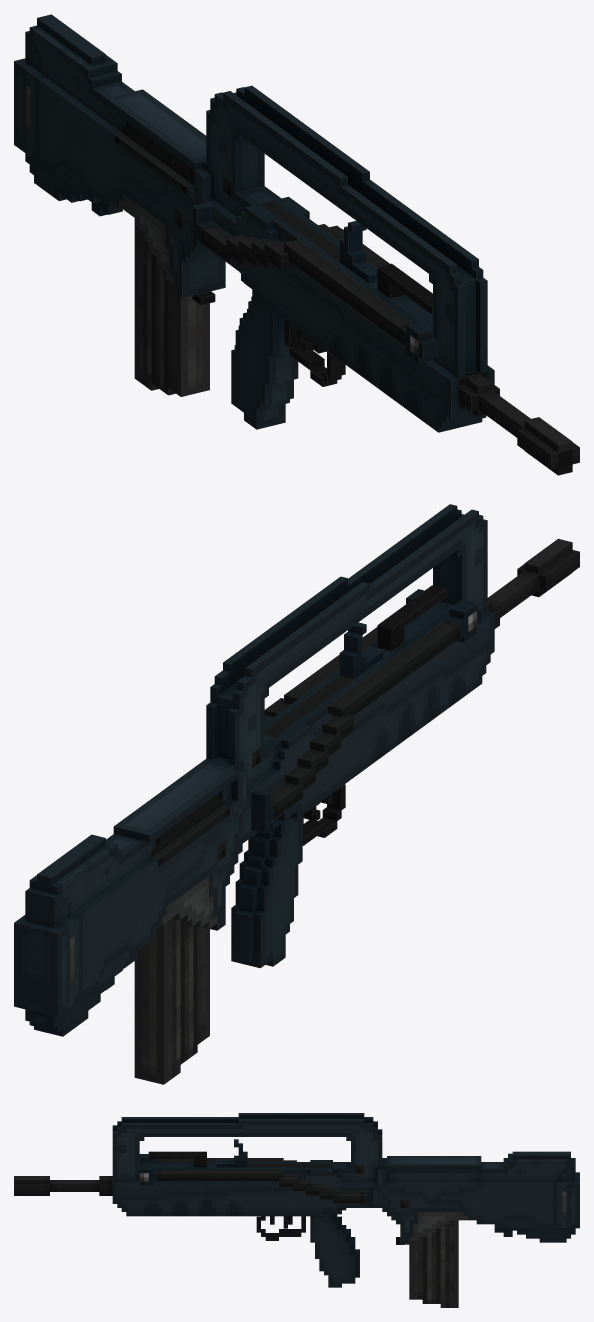
The model's file is FAMAS.glb.
3 views of the same model, one above another, from view 1: azimuth 30°, elevation 25°; view 2: azimuth 150°, elevation 25°; view 3: azimuth 270°, elevation 25° (orthographic). The views are drawn at different scales.
Visible parts, largest first — view 1: FAMAS_F1_BODY, FAMS_F1_CLIP, FAMAS_F1_DIPOD_P1, FAMAS_F1_BOLT; view 2: FAMAS_F1_BODY, FAMS_F1_CLIP, FAMAS_F1_DIPOD_P1, FAMAS_F1_BOLT, FAMAS_F1_DIPOD_P2; view 3: FAMAS_F1_BODY, FAMS_F1_CLIP, FAMAS_F1_DIPOD_P2, FAMAS_F1_BOLT, FAMAS_F1_DIPOD_P1.
Part boxes in pixels (left/top/right/bottom): FAMAS_F1_BODY: left=14, top=14, right=579, bottom=475; FAMS_F1_CLIP: left=134, top=218, right=209, bottom=396; FAMAS_F1_DIPOD_P1: left=192, top=202, right=437, bottom=364; FAMAS_F1_BOLT: left=339, top=221, right=377, bottom=283; FAMAS_F1_BODY: left=14, top=504, right=579, bottom=1036; FAMS_F1_CLIP: left=134, top=918, right=209, bottom=1084; FAMAS_F1_DIPOD_P1: left=251, top=599, right=480, bottom=833; FAMAS_F1_BOLT: left=339, top=622, right=383, bottom=679; FAMAS_F1_DIPOD_P2: left=264, top=589, right=424, bottom=716; FAMAS_F1_BODY: left=14, top=1113, right=579, bottom=1287; FAMS_F1_CLIP: left=409, top=1220, right=458, bottom=1307; FAMAS_F1_DIPOD_P2: left=135, top=1165, right=373, bottom=1207; FAMAS_F1_BOLT: left=216, top=1139, right=247, bottom=1167; FAMAS_F1_DIPOD_P1: left=139, top=1154, right=296, bottom=1161.
Bounding box in the file's own units: 0.0984 × 0.4528 × 1.24.
Materials: 1 (1 with a texture image).
